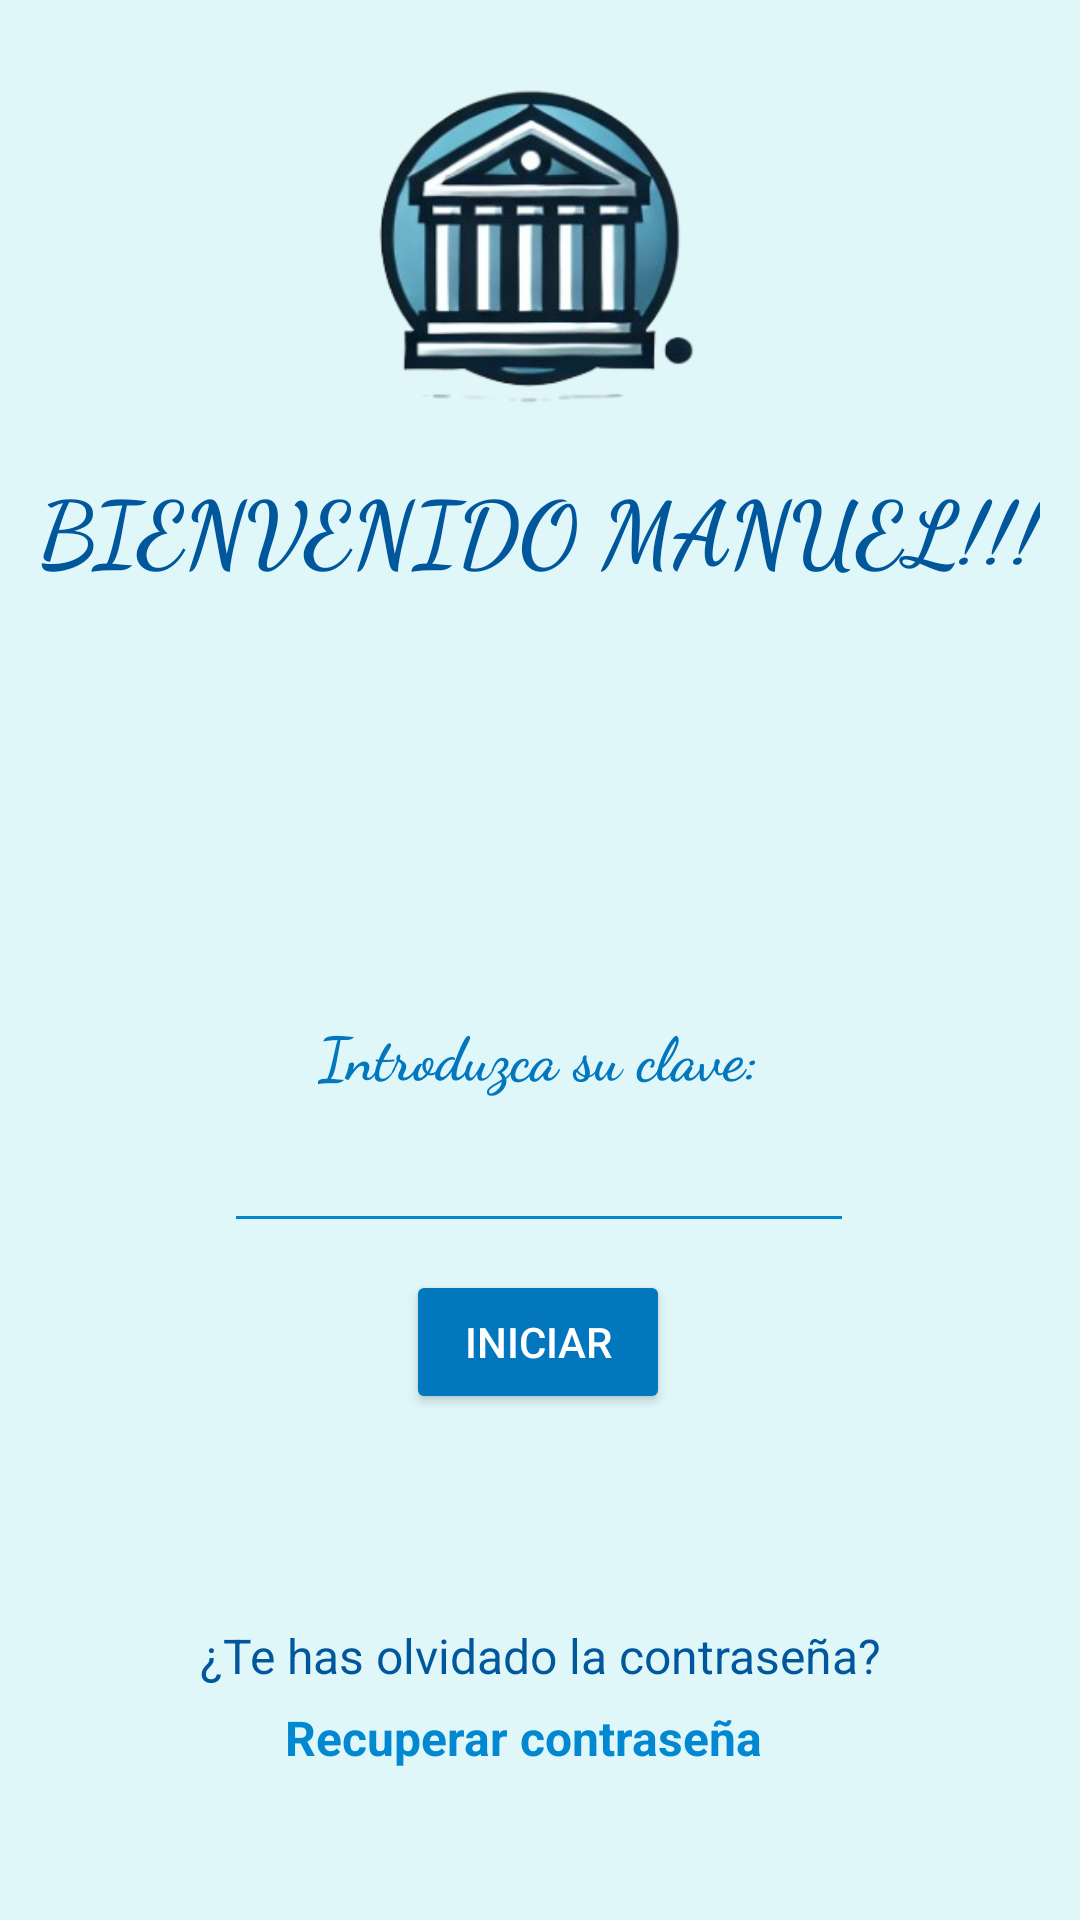

Screen size 1080 x 1920. Icon name, then its box in pixels as (x1, y1, x2, y2):
iconobanco: (380, 91, 693, 402)
